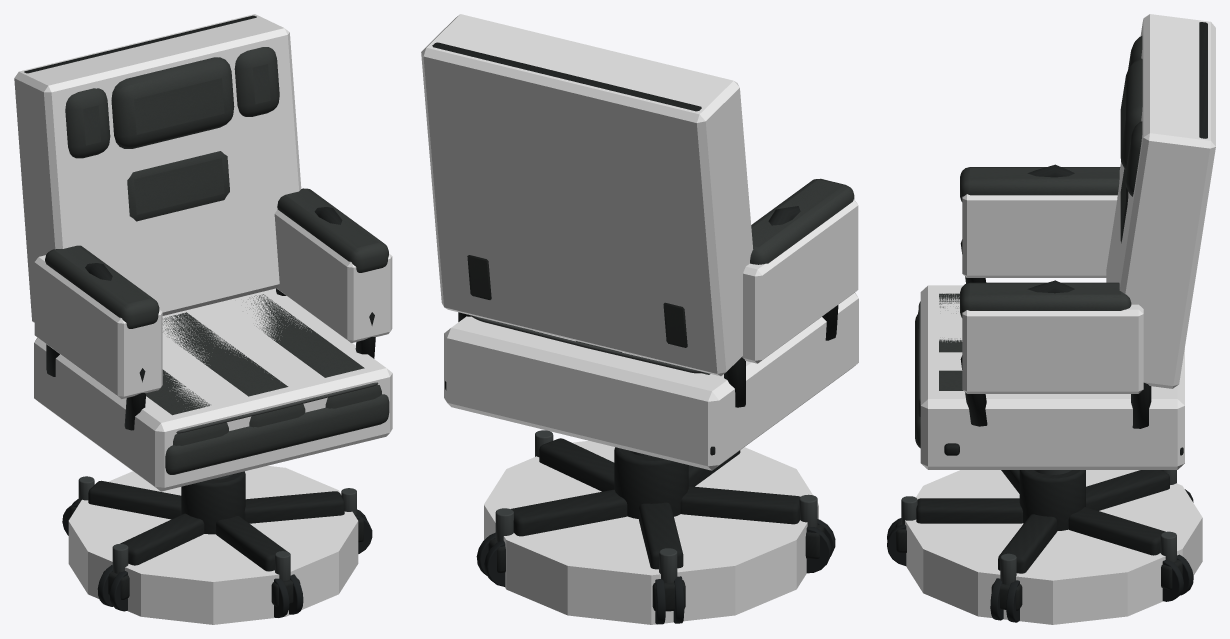
Rendered from standard.glb.
The picture shows the model from 3 angles, left to right: view 1: azimuth 30°, elevation 25°; view 2: azimuth 150°, elevation 25°; view 3: azimuth 270°, elevation 25°; orthographic projection. The views are drawn at different scales.
Visible parts, largest first — view 1: COL_Backrest, COL_Seat, COL_Base, BackrestUpholstery_LOD0, SeatCushion, COL_Arm_Left, COL_Arm_Right, SeatCushionFoundation, ArmPad_Left, ArmPad_Right, BaseHub, BaseLeg_02 (+7 smaller); view 2: COL_Backrest, COL_Seat, COL_Base, COL_Arm_Left, ArmPad_Left, BaseHub, BaseLeg_05, BaseLeg_03, BaseLeg_02, BaseLeg_04, BackrestUpholstery_LOD0, BackrestShell (+4 smaller); view 3: COL_Backrest, COL_Base, COL_Seat, COL_Arm_Right, COL_Arm_Left, ArmPad_Right, ArmPad_Left, BaseHub, BackrestUpholstery_LOD0, BaseLeg_01, BaseLeg_03, BaseLeg_04 (+9 smaller).
Part boxes in pixels (bbox=[...]): COL_Backrest: bbox=[14, 14, 301, 322]; COL_Seat: bbox=[34, 288, 392, 491]; COL_Base: bbox=[68, 465, 358, 624]; BackrestUpholstery_LOD0: bbox=[65, 47, 279, 221]; SeatCushion: bbox=[146, 294, 381, 445]; COL_Arm_Left: bbox=[34, 255, 162, 398]; COL_Arm_Right: bbox=[274, 209, 392, 342]; SeatCushionFoundation: bbox=[165, 394, 389, 474]; ArmPad_Left: bbox=[45, 245, 159, 328]; ArmPad_Right: bbox=[277, 188, 388, 272]; BaseHub: bbox=[181, 471, 245, 534]; BaseLeg_02: bbox=[244, 491, 344, 523]; COL_Backrest: bbox=[421, 14, 753, 376]; COL_Seat: bbox=[444, 293, 858, 470]; COL_Base: bbox=[484, 440, 818, 624]; COL_Arm_Left: bbox=[742, 199, 858, 363]; ArmPad_Left: bbox=[750, 178, 854, 264]; BaseHub: bbox=[614, 447, 688, 518]; BaseLeg_05: bbox=[680, 486, 800, 524]; BaseLeg_03: bbox=[511, 489, 627, 536]; BaseLeg_02: bbox=[539, 438, 614, 491]; BaseLeg_04: bbox=[639, 502, 683, 569]; BackrestUpholstery_LOD0: bbox=[467, 255, 687, 347]; BackrestShell: bbox=[432, 42, 701, 111]; COL_Backrest: bbox=[1106, 14, 1215, 388]; COL_Base: bbox=[905, 470, 1202, 624]; COL_Seat: bbox=[920, 285, 1184, 469]; COL_Arm_Right: bbox=[962, 304, 1143, 393]; COL_Arm_Left: bbox=[962, 194, 1117, 277]; ArmPad_Right: bbox=[960, 282, 1131, 317]; ArmPad_Left: bbox=[960, 167, 1120, 201]; BaseHub: bbox=[1019, 470, 1085, 531]; BackrestUpholstery_LOD0: bbox=[1120, 36, 1142, 243]; BaseLeg_01: bbox=[916, 498, 1022, 523]; BaseLeg_03: bbox=[1068, 507, 1165, 555]; BaseLeg_04: bbox=[1086, 470, 1169, 510].
Size of what is drawn, in the model's own units: 0.67 by 1.1 by 0.6724.
Materials: 5 (2 with a texture image).
